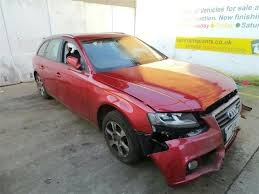Broken-glass: (146, 111, 200, 132)
Dent: (143, 127, 231, 185)
